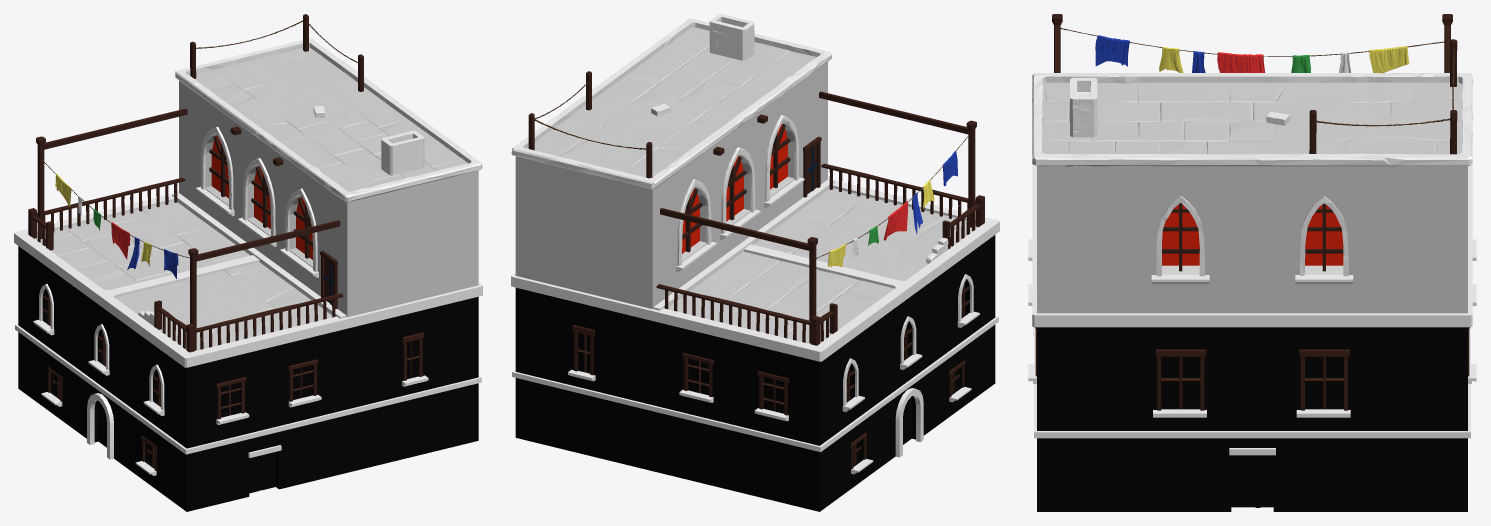
The model's file is civilian_house_11.FBX.
3 views of the same model, side by side, from view 1: azimuth 30°, elevation 25°; view 2: azimuth 150°, elevation 25°; view 3: azimuth 270°, elevation 25° (orthographic). The views are drawn at different scales.
Visible parts, largest first — view 1: civilian_house_11; view 2: civilian_house_11; view 3: civilian_house_11.
Part boxes in pixels (<box>): civilian_house_11: <box>14,14,482,511</box>; civilian_house_11: <box>511,14,999,511</box>; civilian_house_11: <box>1028,14,1476,511</box>.
Size of the model in its own units: 2098 by 2024 by 2083.
